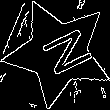N_SW: (26, 23, 90, 82)
